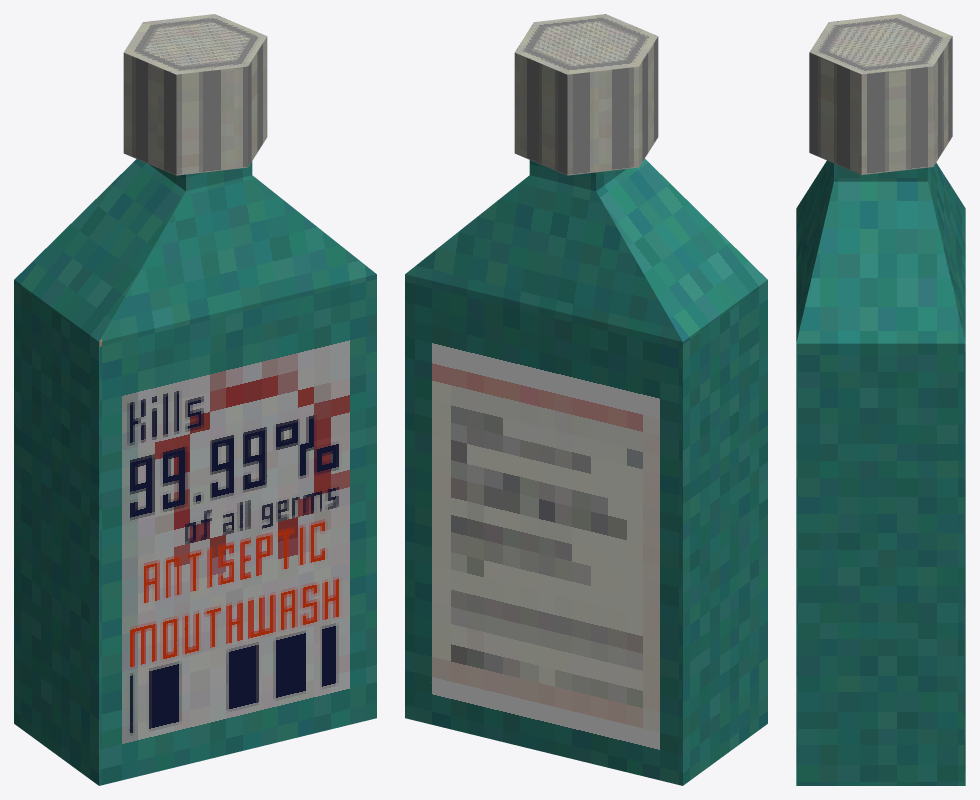
The model's file is Med_3.glb.
3 renders of one model, left to right at view 1: azimuth 30°, elevation 25°; view 2: azimuth 150°, elevation 25°; view 3: azimuth 270°, elevation 25°, orthographic.
Visible parts, largest first — view 1: Med_3; view 2: Med_3; view 3: Med_3.
Boxes of the visible parts, x1,y1,x2,y2 form: Med_3: (14,14,376,785); Med_3: (405,14,767,785); Med_3: (796,14,965,785).
Bounding box in the file's own units: 6.55 × 15.24 × 3.47.
1 material, 1 textured.
